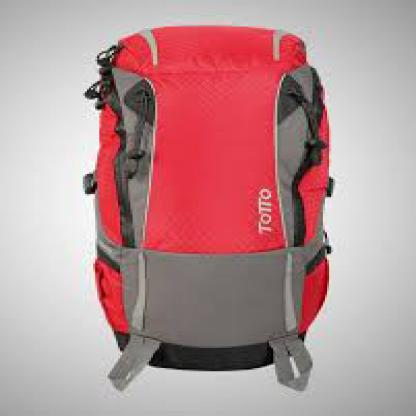morral: (60, 17, 354, 401)
